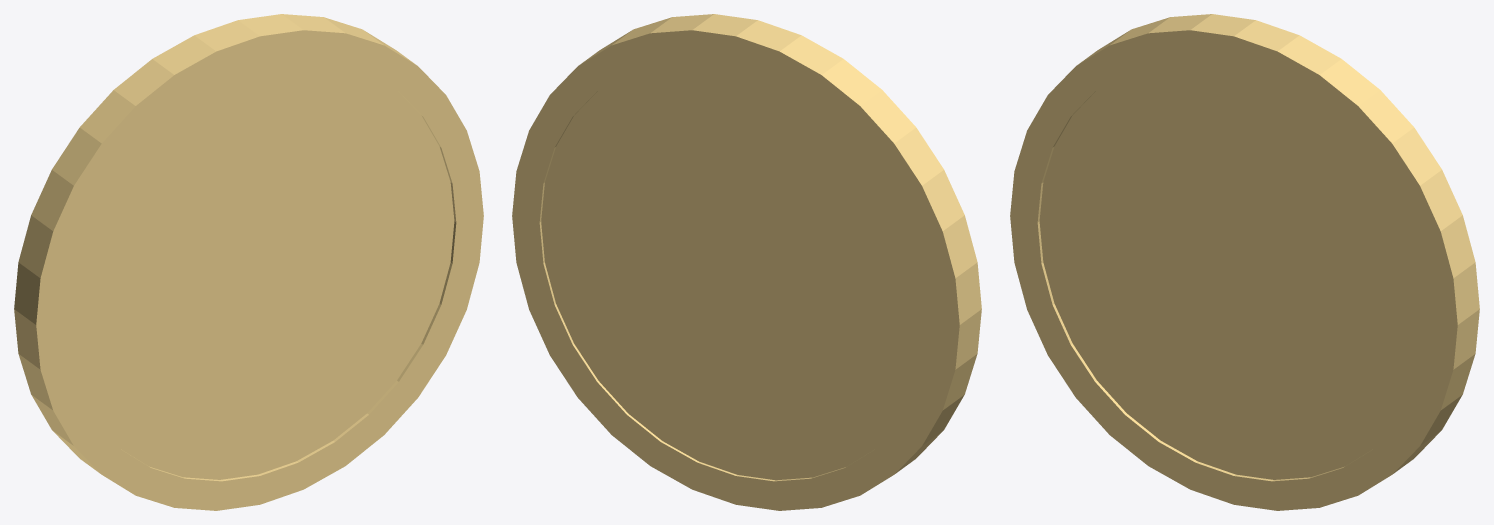
File: piece.fbx
3 renders of one model, left to right at view 1: azimuth 30°, elevation 25°; view 2: azimuth 150°, elevation 25°; view 3: azimuth 330°, elevation 25°, orthographic.
Visible parts, largest first — view 1: Circle; view 2: Circle; view 3: Circle.
Boxes of the visible parts, x1,y1,x2,y2 form: Circle: (14,14,483,510); Circle: (512,14,981,510); Circle: (1010,14,1479,510).
Bounding box in the file's own units: 11.84 × 138 × 138.
1 material, 1 textured.
